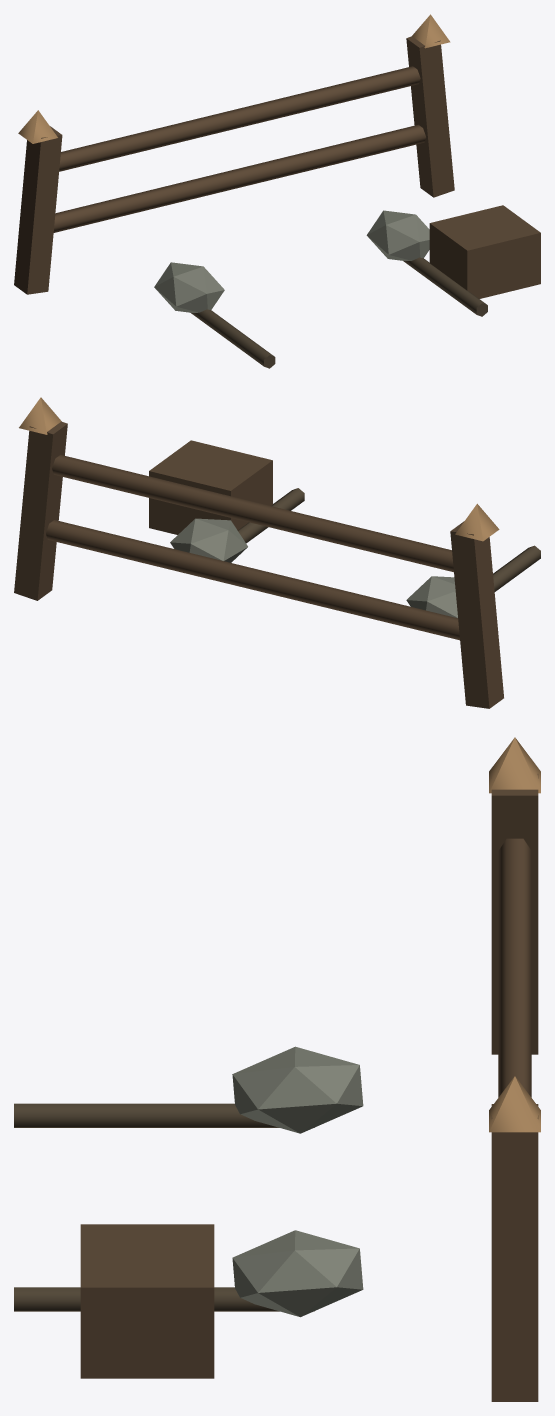
The model's file is wagon-pullout.glb.
3 views of the same model, one above another, from view 1: azimuth 30°, elevation 25°; view 2: azimuth 150°, elevation 25°; view 3: azimuth 270°, elevation 25° (orthographic). The views are drawn at different scales.
Parts seen in each view (by area): view 1: wagon-pullout; view 2: wagon-pullout; view 3: wagon-pullout.
Part boxes in pixels (<box>): wagon-pullout: <box>14,14,540,368</box>; wagon-pullout: <box>14,397,540,708</box>; wagon-pullout: <box>14,737,540,1401</box>.
Size of the model in its own units: 2.62 by 1.04 by 1.58.
